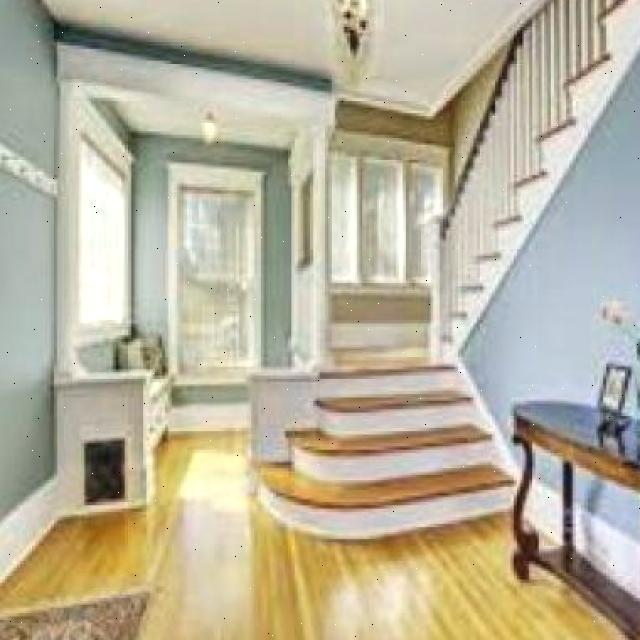stair: (273, 367, 520, 519)
